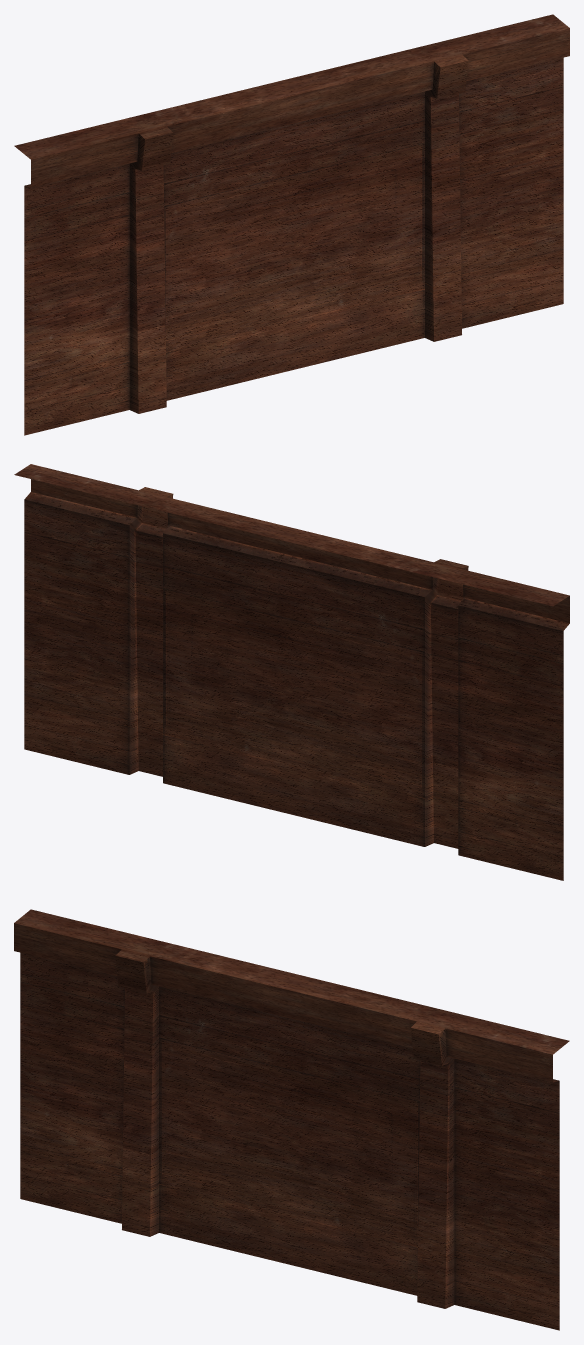
The model's file is SM_Wallbar_Hall_01.fbx.
3 renders of one model, top to bottom at view 1: azimuth 30°, elevation 25°; view 2: azimuth 150°, elevation 25°; view 3: azimuth 330°, elevation 25°, orthographic.
Parts seen in each view (by area): view 1: SM_Wallbar_Hall_01; view 2: SM_Wallbar_Hall_01; view 3: SM_Wallbar_Hall_01.
Boxes of the visible parts, left/top/right/bottom form: SM_Wallbar_Hall_01: left=14, top=14, right=569, bottom=435; SM_Wallbar_Hall_01: left=14, top=464, right=569, bottom=880; SM_Wallbar_Hall_01: left=14, top=909, right=569, bottom=1330.
Size of the model in its own units: 200 by 100 by 15.
